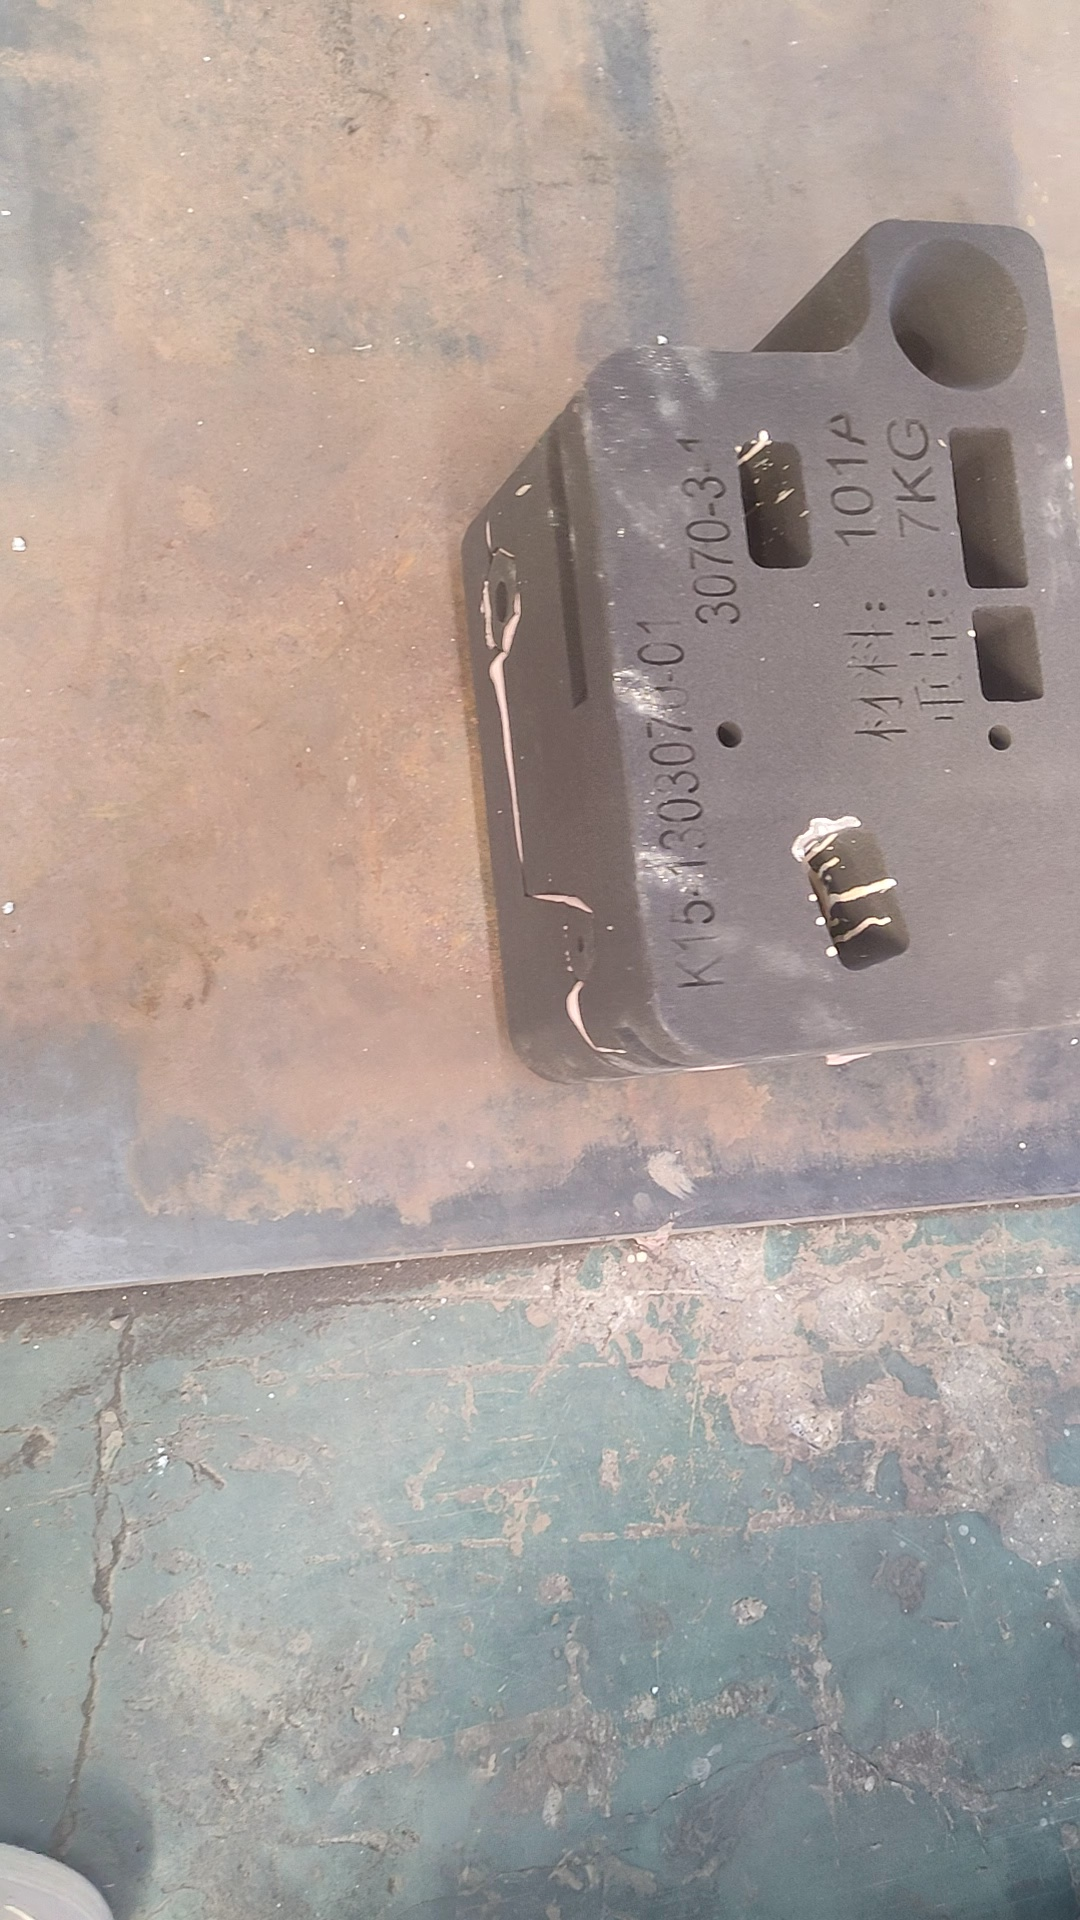pouring hole: (890, 237, 1030, 390)
